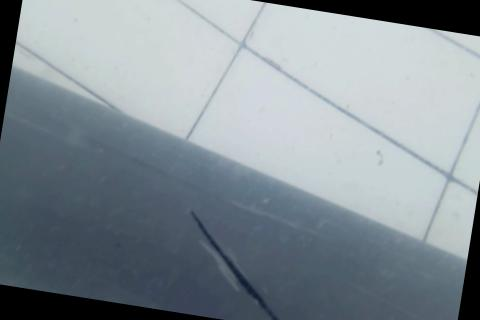keretakan: (174, 208, 305, 320)
